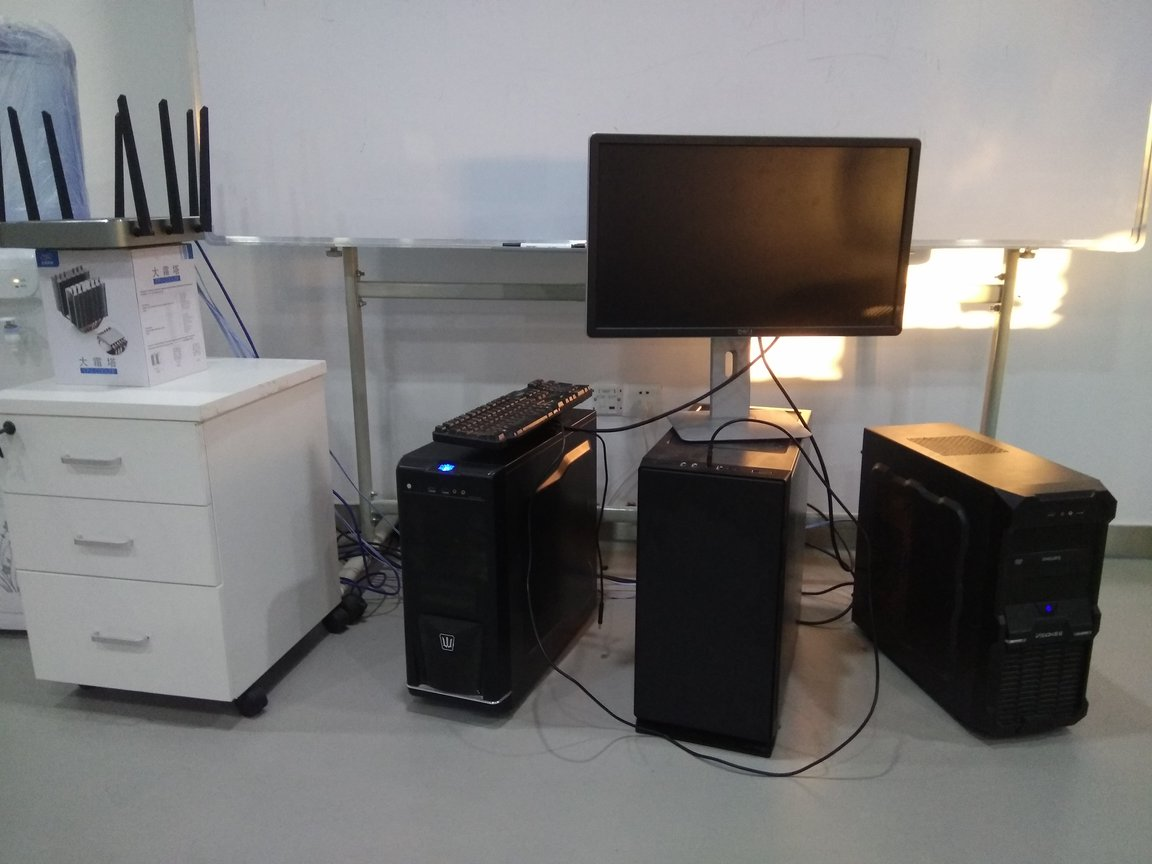computer: (848, 417, 1093, 754), (395, 404, 600, 734), (641, 395, 808, 769)
drawer chest: (1, 345, 358, 732)
monitor: (588, 123, 912, 457)
scuttlebutt: (1, 16, 87, 247)
water dispenser: (1, 239, 118, 655)
